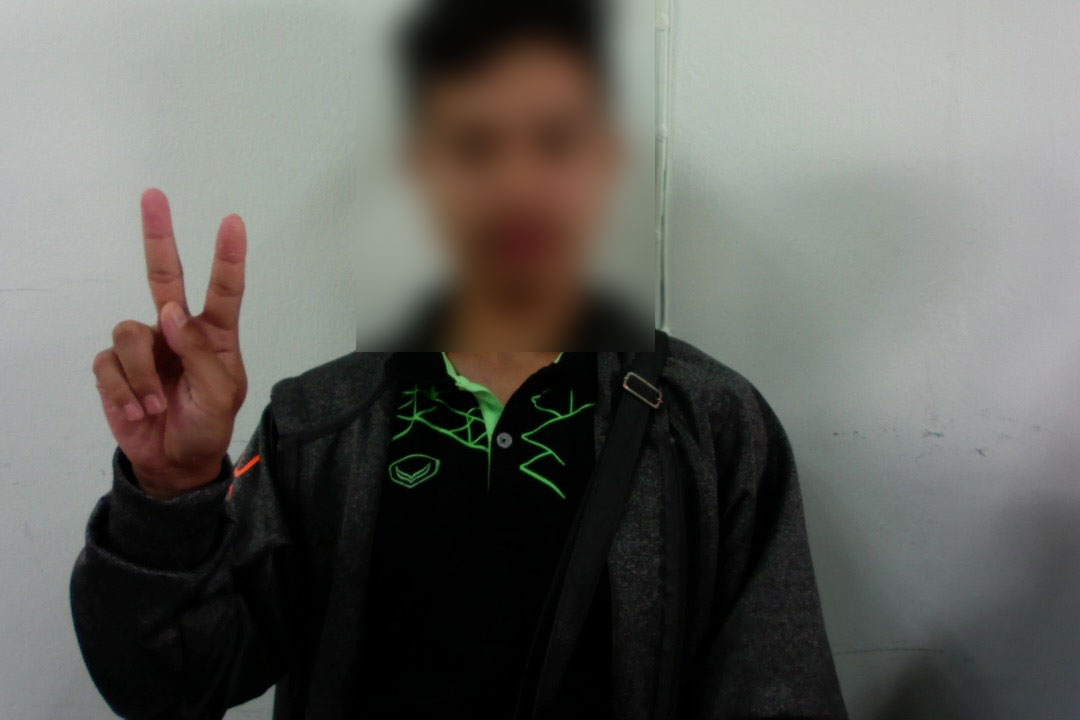ko: (90, 182, 253, 494)
